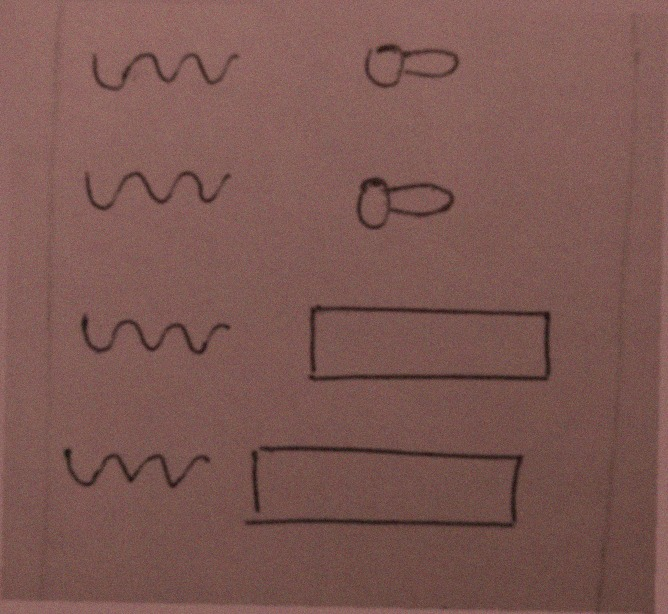switch: (347, 167, 486, 254), (347, 27, 472, 105)
text: (69, 293, 237, 377), (53, 433, 216, 506), (74, 154, 236, 223), (82, 36, 245, 103)
text_input: (234, 427, 531, 543), (293, 290, 564, 397)
